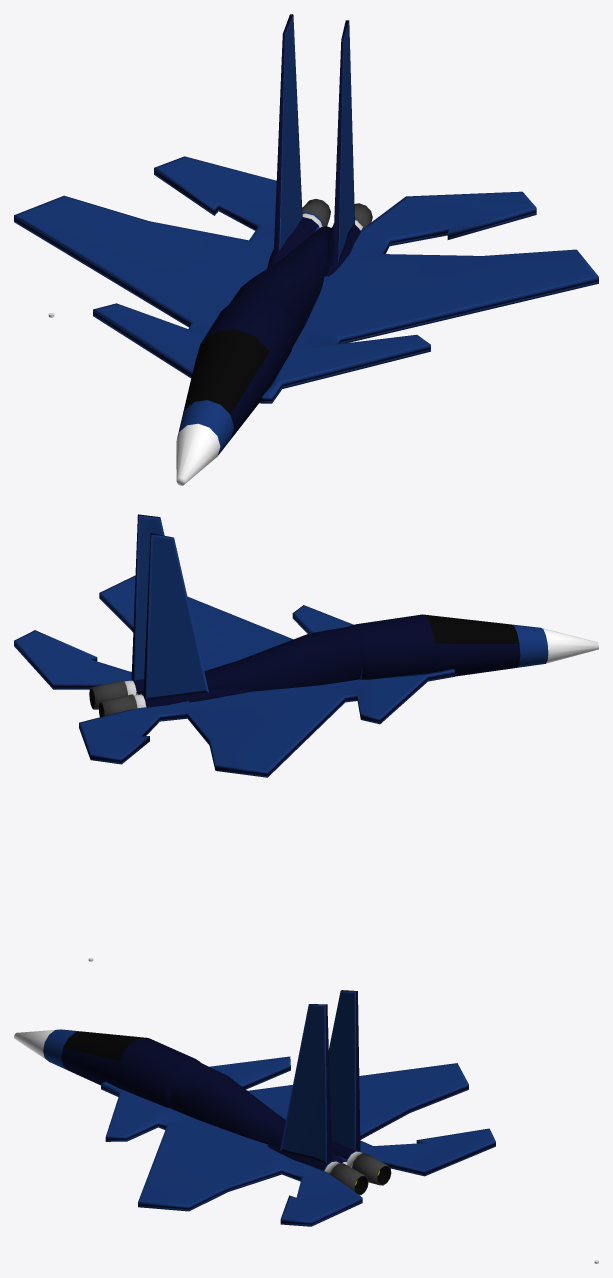
File: fighter plane.FBX
3 views of the same model, one above another, from view 1: azimuth 30°, elevation 25°; view 2: azimuth 150°, elevation 25°; view 3: azimuth 270°, elevation 25° (orthographic). The views are drawn at different scales.
Parts seen in each view (by area): view 1: Cylinder001; view 2: Cylinder001; view 3: Cylinder001.
Boxes of the visible parts, x1,y1,x2,y2 form: Cylinder001: [14, 14, 598, 485]; Cylinder001: [14, 514, 598, 777]; Cylinder001: [14, 990, 495, 1226].
Bounding box in the file's own units: 245 × 173 × 302.
